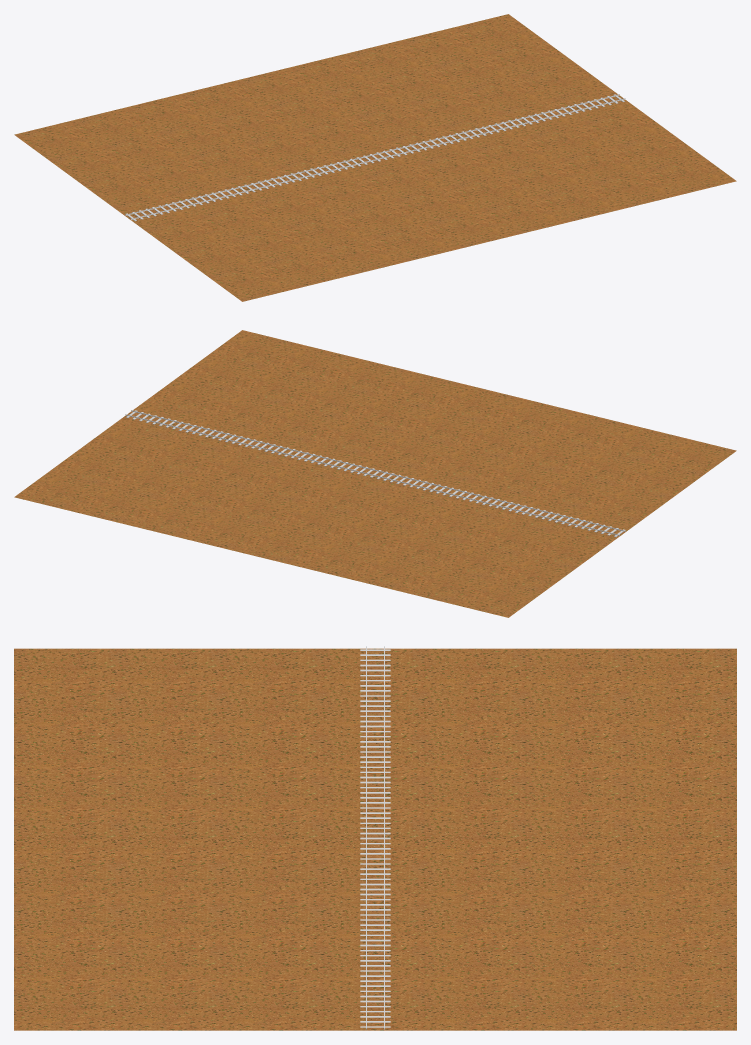
The model's file is Terrain_1.FBX.
The picture shows the model from 3 angles, top to bottom: view 1: azimuth 30°, elevation 25°; view 2: azimuth 150°, elevation 25°; view 3: azimuth 270°, elevation 25°; orthographic projection. The views are drawn at different scales.
Visible parts, largest first — view 1: Terrain, Rails, Rails002, Rails001; view 2: Terrain, Rails, Rails002, Rails001; view 3: Terrain.
Boxes of the visible parts, bbox=[...] form: Terrain: bbox=[14, 14, 736, 301]; Rails: bbox=[125, 174, 295, 219]; Rails002: bbox=[455, 94, 625, 139]; Rails001: bbox=[290, 134, 460, 179]; Terrain: bbox=[14, 330, 736, 617]; Rails: bbox=[455, 490, 625, 535]; Rails002: bbox=[125, 410, 295, 455]; Rails001: bbox=[290, 450, 460, 495]; Terrain: bbox=[14, 648, 736, 1030].
Size of the model in its own units: 150 by 0.3827 by 120.
